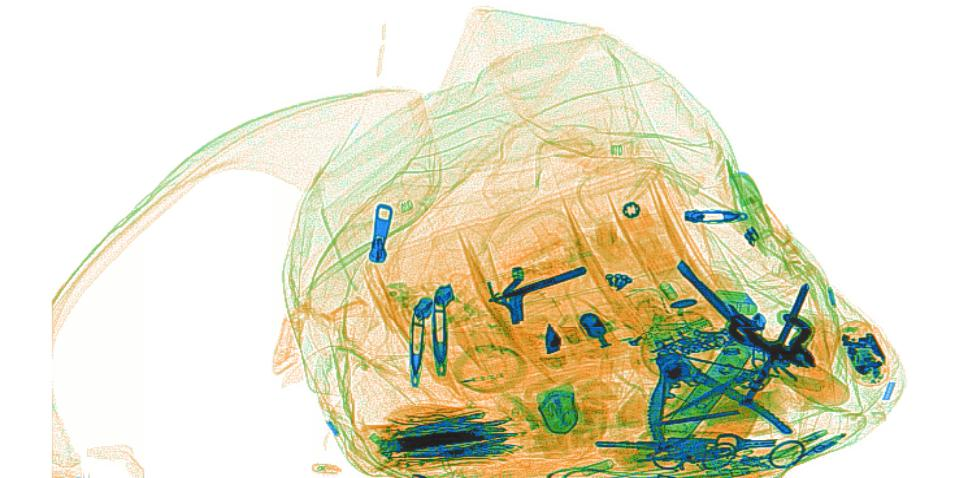knife: (640, 336, 753, 446)
